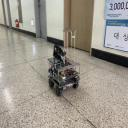cart: (47, 56, 81, 96)
